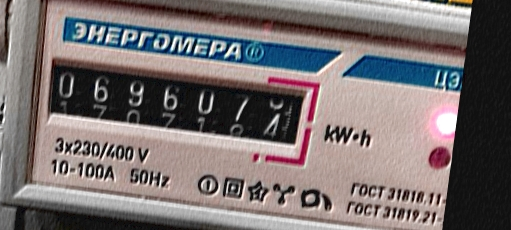0: (56, 68, 81, 100), (197, 85, 220, 117)
4: (261, 109, 284, 140)
6: (161, 81, 185, 114), (92, 72, 114, 104)
7: (231, 89, 253, 122)
9: (126, 77, 150, 108)
screen: (33, 40, 326, 168)
